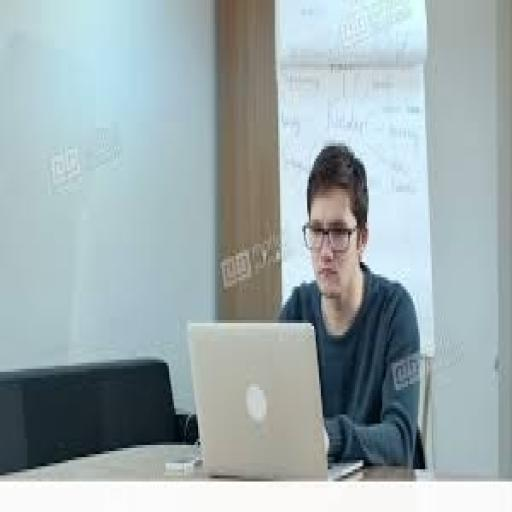using_laptop: (184, 317, 364, 481)
